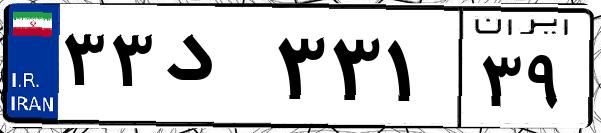1: (385, 28, 445, 110)
3: (270, 28, 330, 110), (330, 28, 385, 110), (57, 26, 110, 100), (475, 38, 525, 113), (110, 28, 158, 98)
9: (525, 38, 570, 115)
د: (158, 20, 270, 120)
